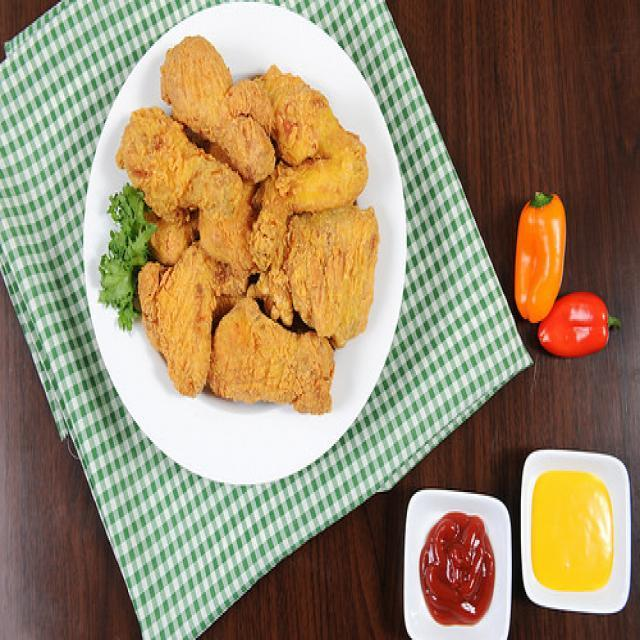Frango: (115, 28, 385, 440)
